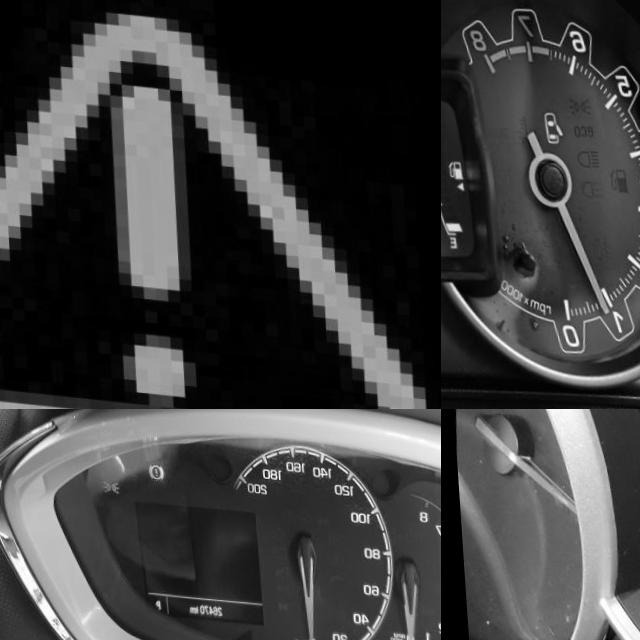Central Warning lamp: (0, 0, 441, 409)
Doors: (540, 99, 563, 136)
SideLamp: (100, 477, 117, 492)
